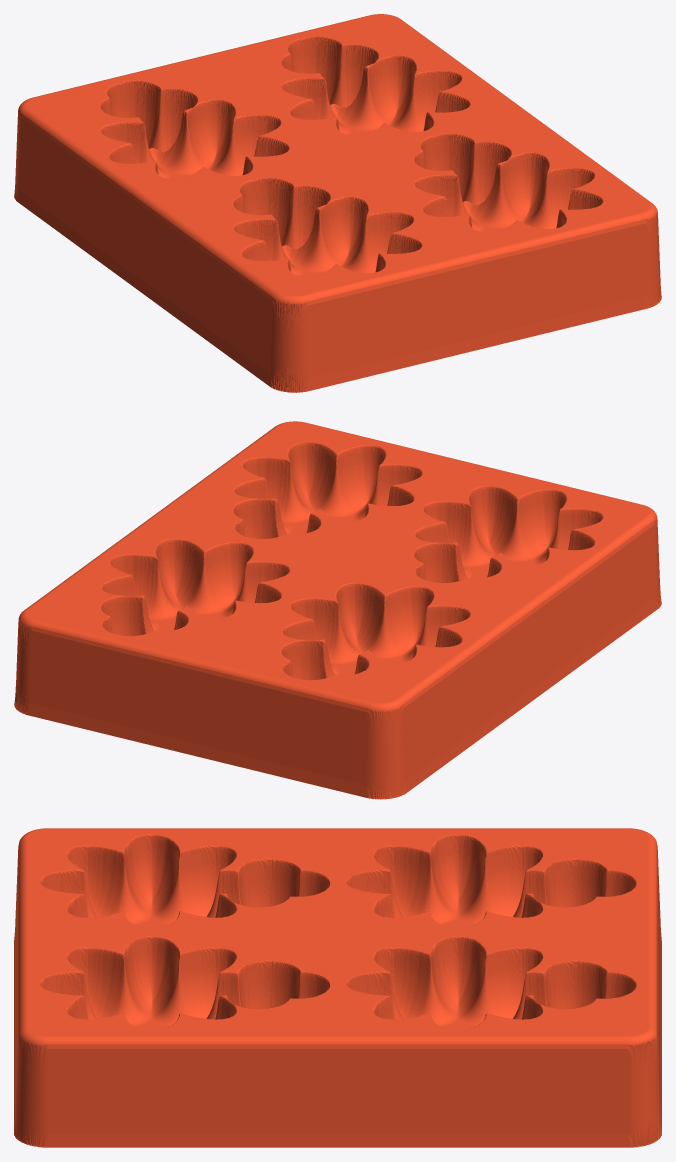
File: mold.glb
3 renders of one model, top to bottom at view 1: azimuth 30°, elevation 25°; view 2: azimuth 150°, elevation 25°; view 3: azimuth 270°, elevation 25°, orthographic. The views are drawn at different scales.
Visible parts, largest first — view 1: geometry_0; view 2: geometry_0; view 3: geometry_0.
Boxes of the visible parts, left/top/right/bottom form: geometry_0: left=14, top=14, right=661, bottom=392; geometry_0: left=14, top=421, right=661, bottom=799; geometry_0: left=14, top=828, right=661, bottom=1147.
Size of the model in its own units: 0.1374 by 0.031 by 0.1721.
